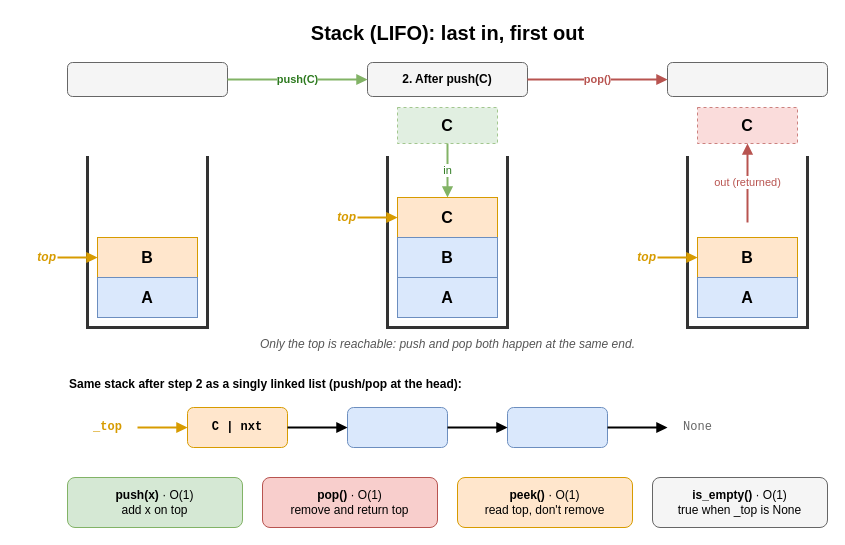
Some shapes in this 845 by 545 pixel diagram are drawn without their labels. Each missing label, with the centre of its shape:
"1. Stack holds [B, A]" belongs at point (147, 79).
"3. After pop() → C" belongs at point (747, 79).
"A | nxt" belongs at point (557, 427).
"B | nxt" belongs at point (397, 427).
